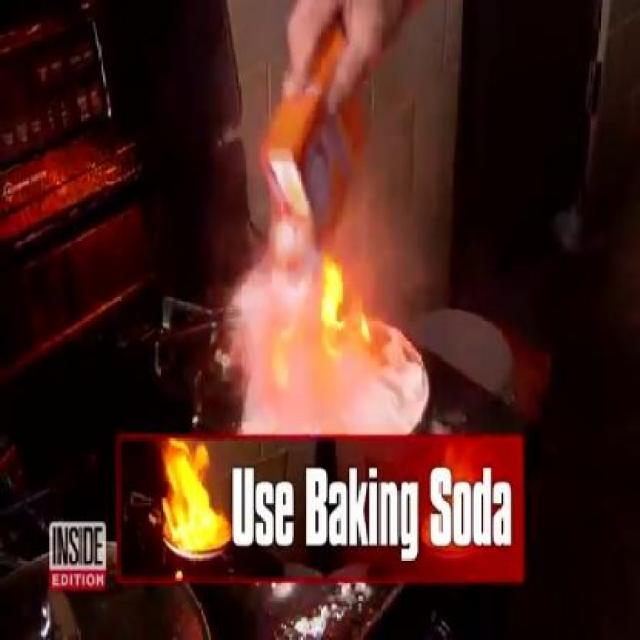fire: (169, 446, 222, 560), (326, 250, 340, 368)
smoke: (247, 250, 321, 436)
